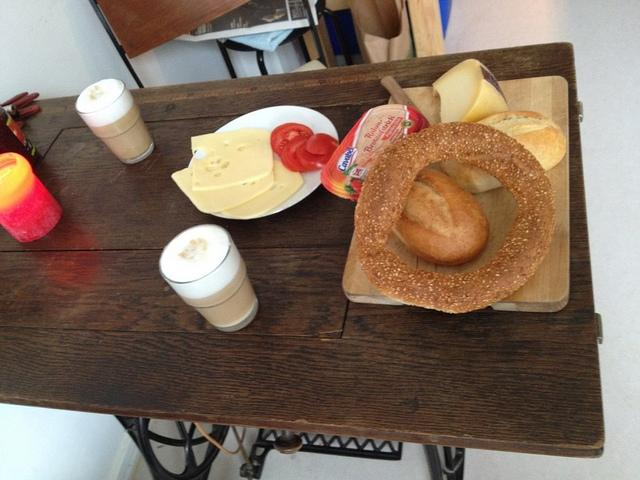tomato: (270, 123, 313, 158), (280, 136, 311, 172), (296, 144, 332, 170), (305, 132, 338, 154)
